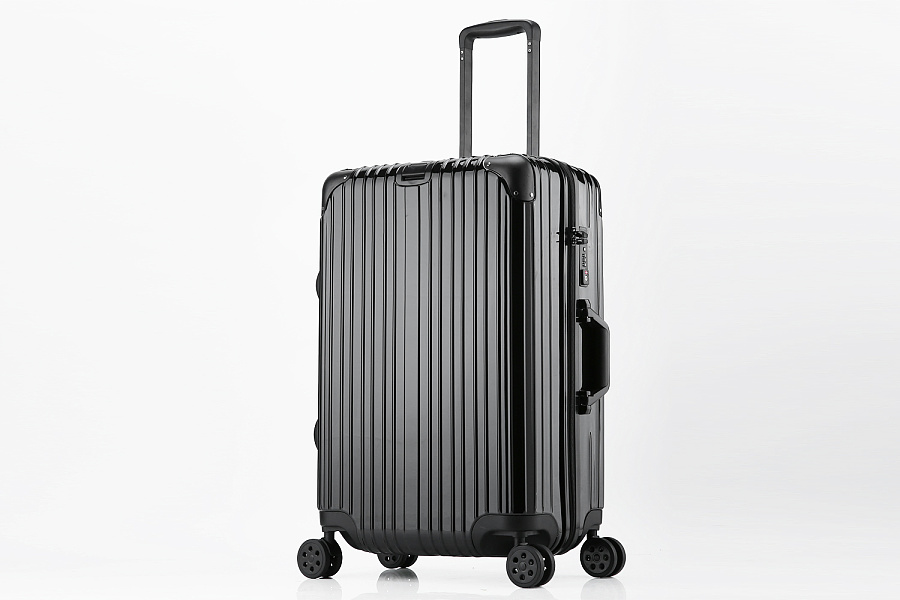luggage: (296, 19, 629, 588)
